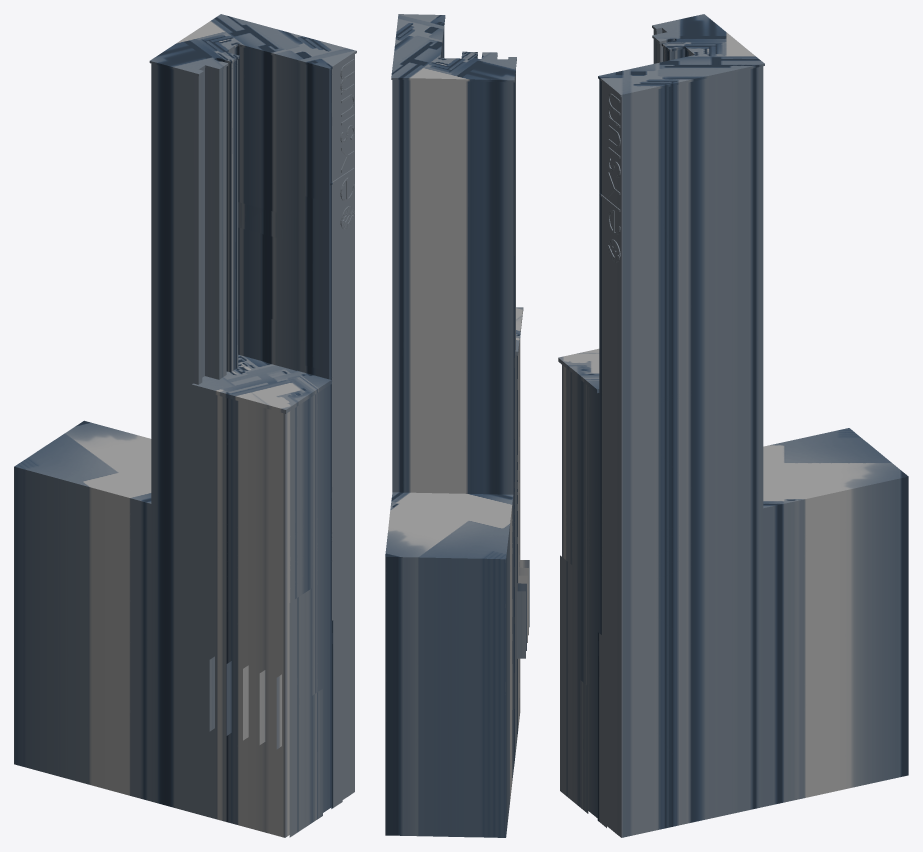
Rendered from Landmarks_dt_centurian_yards_elysium.glb.
The picture shows the model from 3 angles, left to right: view 1: azimuth 30°, elevation 25°; view 2: azimuth 150°, elevation 25°; view 3: azimuth 270°, elevation 25°; orthographic projection. The views are drawn at different scales.
Parts seen in each view (by area): view 1: world; view 2: world; view 3: world.
Boxes of the visible parts, x1=… form: world: x1=14, y1=14, x2=356, y2=837; world: x1=385, y1=14, x2=529, y2=837; world: x1=558, y1=14, x2=908, y2=837.
Size of the model in its own units: 10234 by 31665 by 13528.
1 material, 1 textured.
